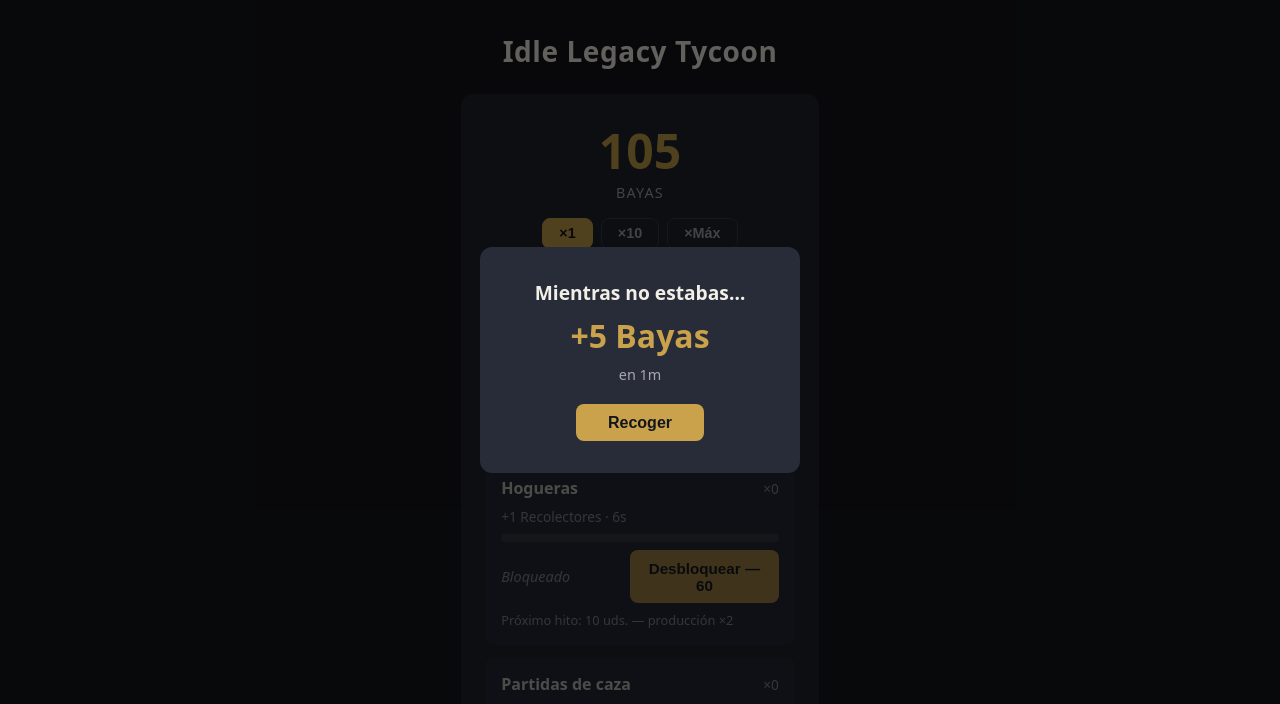
Test: App › al volver con un ciclo lanzado que completó fuera, muestra el modal de retorno con el desglose
Expected: the heading "Mientras no estabas…" is shown, [535,279,745,306]
Expected: the text "+5 Bayas" is shown, [570,314,710,357]
Click the button "Recoger": (640, 422) [576,404,704,441]
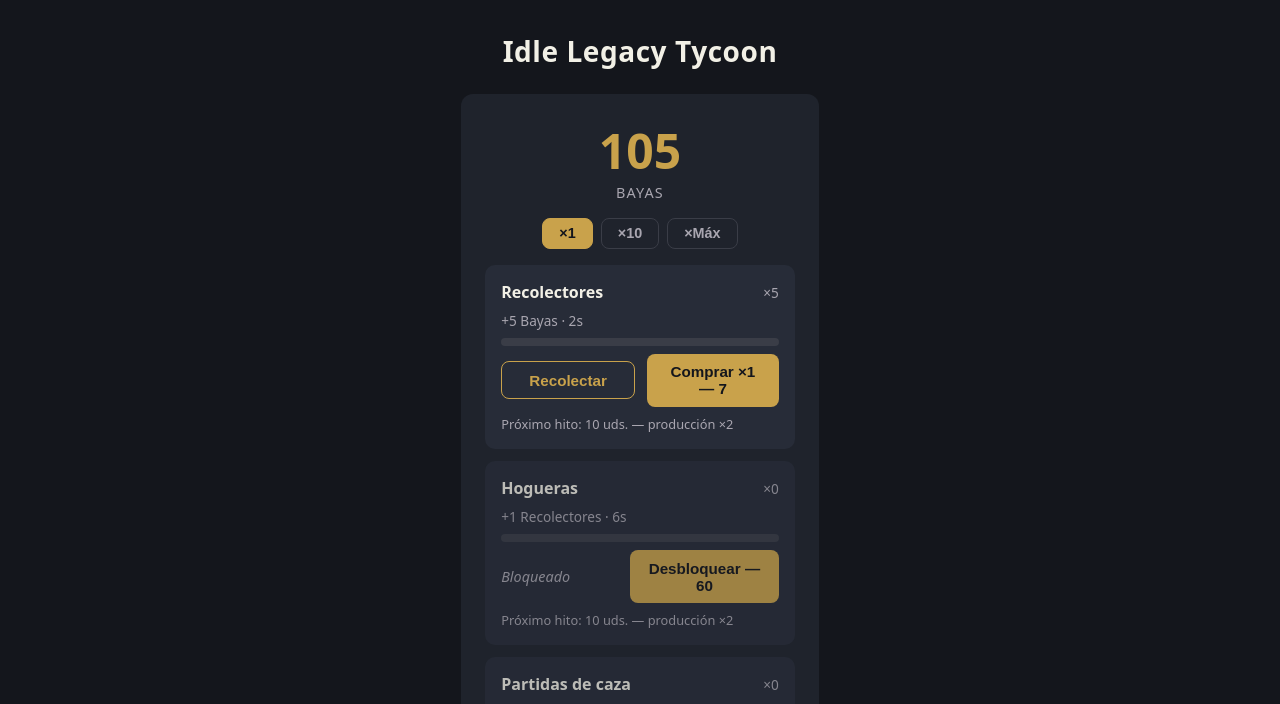
Expected: the text named "Bayas" reads "105", [599,118,681,183]
Result: the dialog is gone
